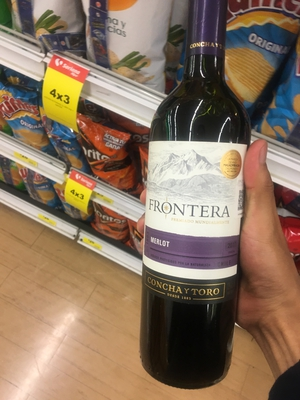frontera merlot: (118, 13, 263, 381)
